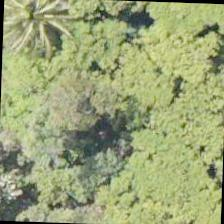Kelapa_Sawit: (2, 0, 82, 63)
